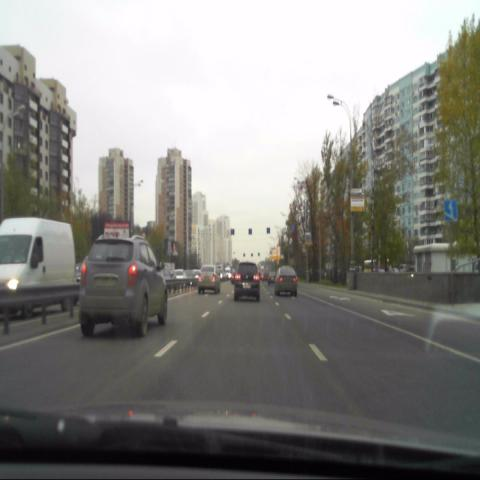6_6: (444, 199, 458, 221)
